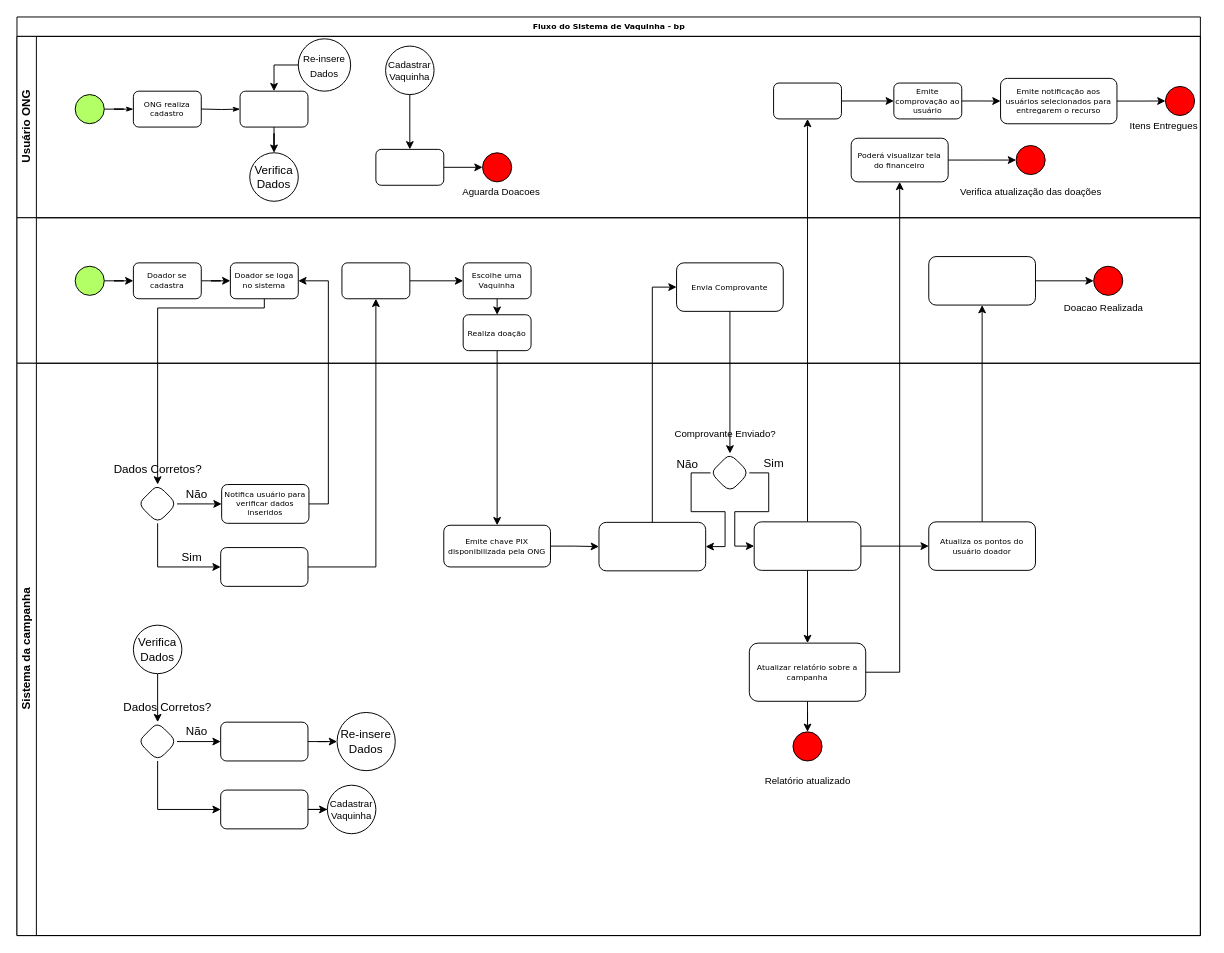
This 1224x953 diagram has some shape labels left out. The box of each missing label's shape, as (x1, y1, x2, y2) in pixels:
Cadastra vaquinha: (375, 148, 444, 185)
Notifica ONG de que o dinheiro foi doado: (753, 521, 861, 570)
Notifica ONG para verificar dados inseridos: (220, 721, 308, 761)
ONG se loga no sistema: (239, 90, 308, 127)
Recebe o dinheiro: (773, 82, 841, 119)
Redireciona ONG para cadastro de Vaquinha: (220, 789, 308, 829)
Redireciona Usuario para o catalogo de vaquinhas: (220, 547, 308, 586)
Solicita comprovante do usuário: (598, 521, 706, 571)
Usuário Doador: (16, 217, 1200, 363)
Usuário verifica pontos atualizados no seu perfil: (928, 256, 1035, 305)
Visualiza Catalogo: (341, 262, 410, 299)
